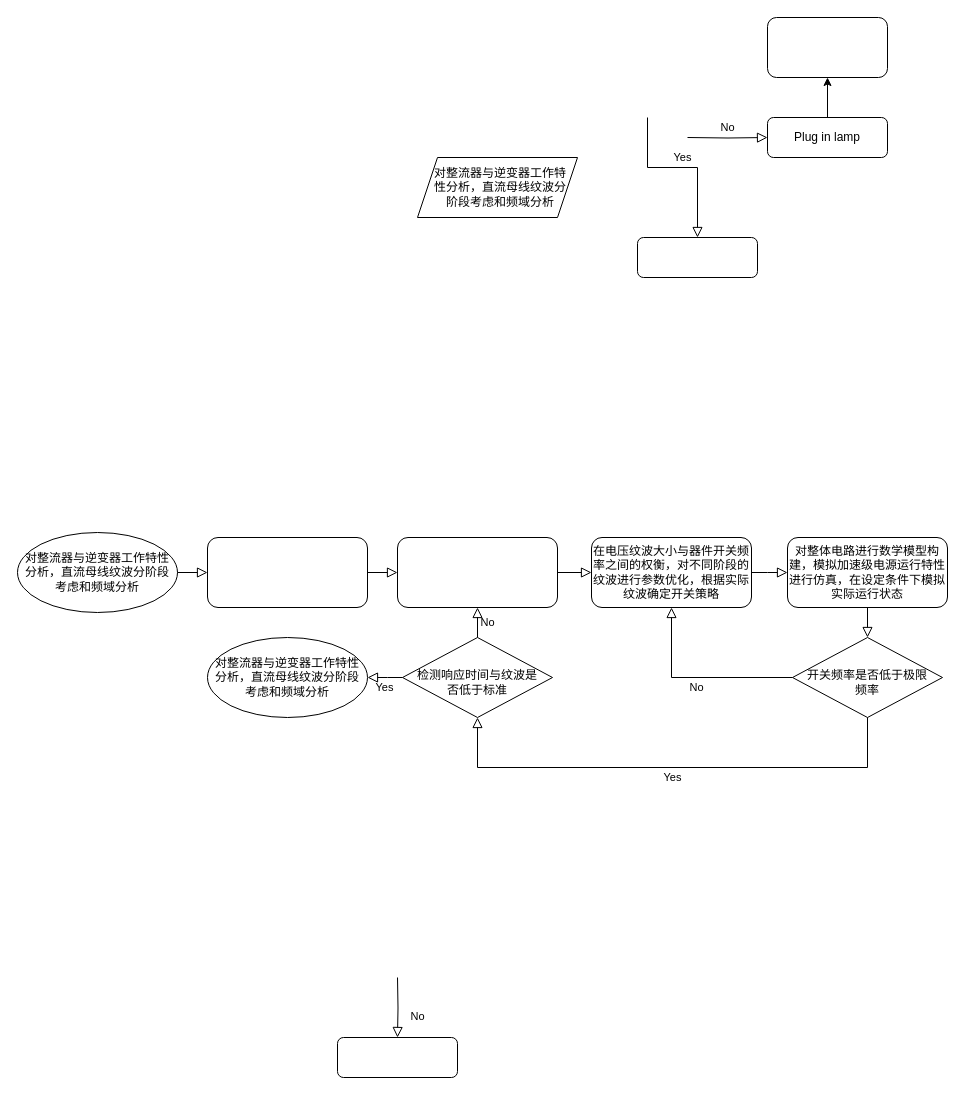
Some shapes in this 965 by 1095 pixel diagram are drawn without their labels. Each missing label, with the centre of its shape:
"FIR滤波器零极点设置，根据零极点建立传递函数，得出滤波器时域表达式，并用代码进行算法的实现" goes at pixel 477 572.
"Repair Lamp" goes at pixel 397 1057.
"Replace Bulb" goes at pixel 697 257.
"有源滤波buck-boost电路工作原理分析，确定开关管死区时间、驱动方式、辅助电路、通断规则和极限频率等。" goes at pixel 287 572.
